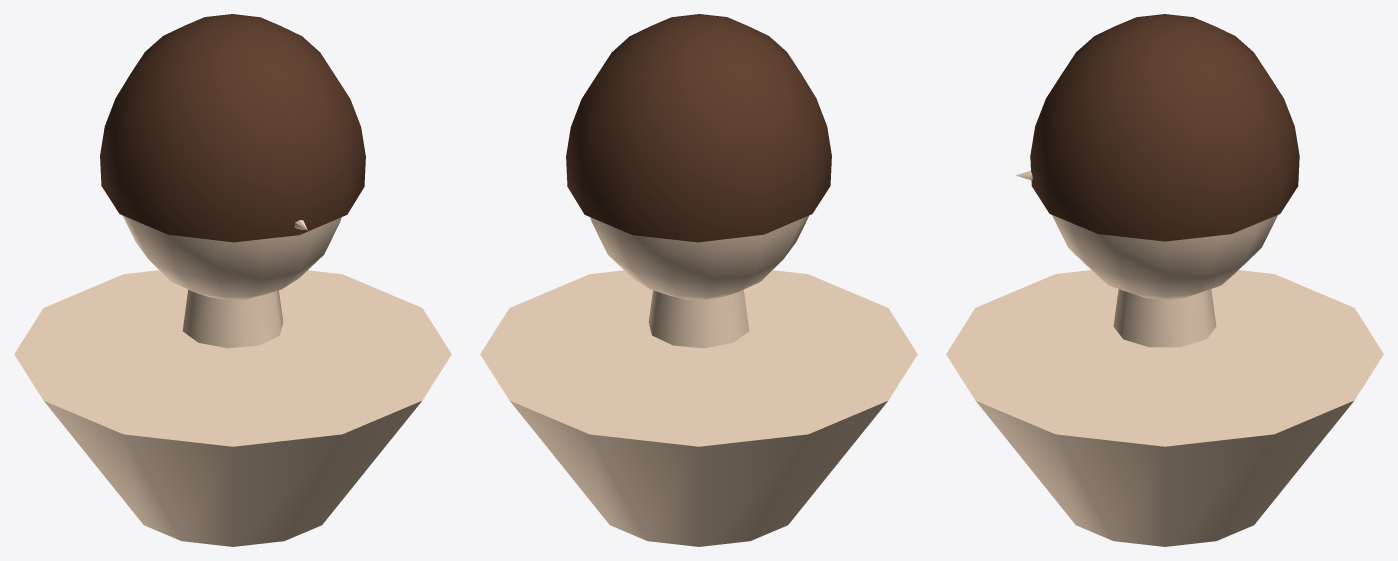
File: portrait14m_001.glb
3 views of the same model, side by side, from view 1: azimuth 30°, elevation 25°; view 2: azimuth 150°, elevation 25°; view 3: azimuth 270°, elevation 25° (orthographic).
Bounding box in the file's own units: 1.79 × 2.15 × 1.79.
